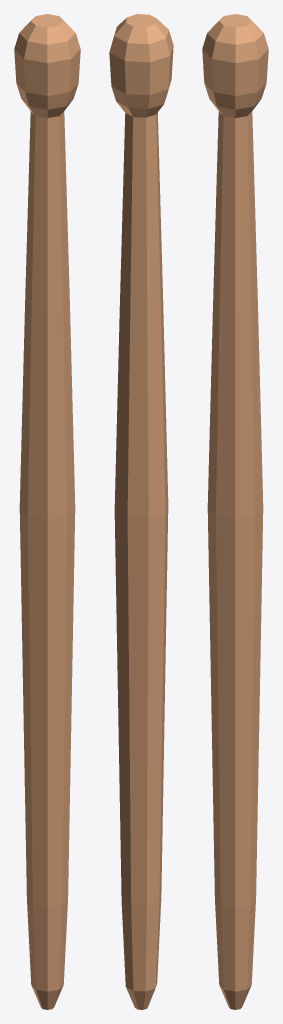
Rendered from DrumStick.fbx.
3 renders of one model, left to right at view 1: azimuth 90°, elevation 25°; view 2: azimuth 150°, elevation 25°; view 3: azimuth 270°, elevation 25°, orthographic.
Visible parts, largest first — view 1: DrumStick; view 2: DrumStick; view 3: DrumStick.
Boxes of the visible parts, <box> form: DrumStick: <box>14,14,80,1009</box>; DrumStick: <box>109,14,173,1009</box>; DrumStick: <box>202,14,268,1009</box>.
Bounding box in the file's own units: 0.7495 × 12.25 × 0.7495.
